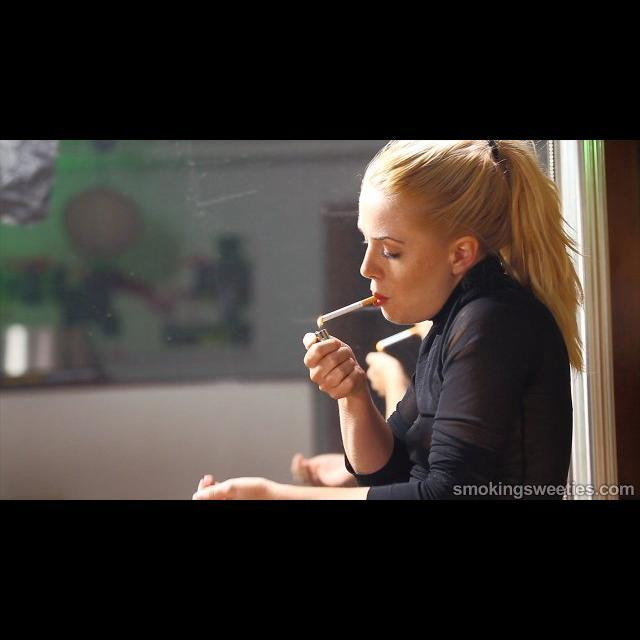rokok: (315, 292, 373, 318), (377, 328, 421, 350)
